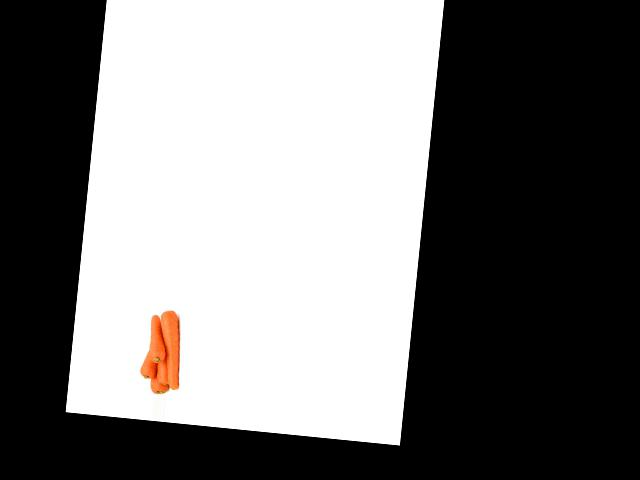carrot: (140, 346, 160, 380)
